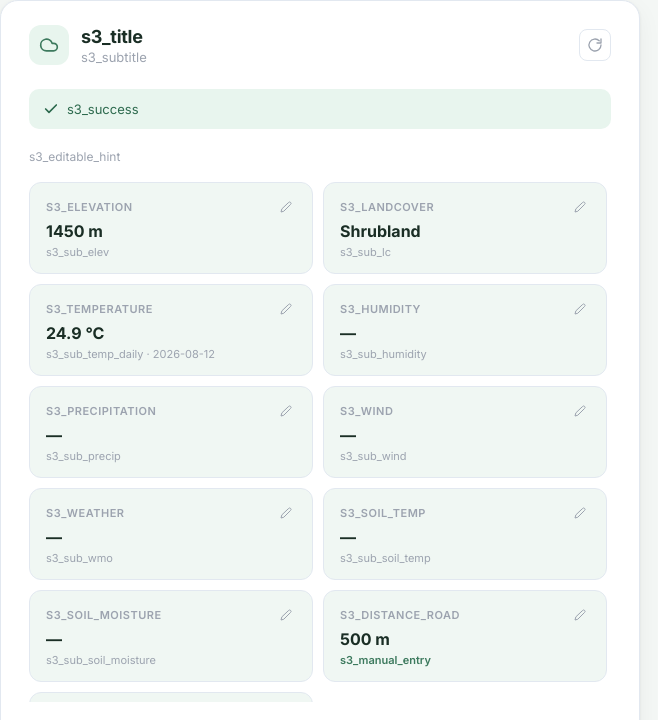
Scenario: Step3Environment auto-fetch › manual refetch preserves a manually-edited field instead of overwriting it with the new fetch result
Expected: the text "500 m" is shown, [340,629,390,649]
Click the button named "s3_refetch".
click(595, 45)  # box [579,29,611,61]
(page scrolled)
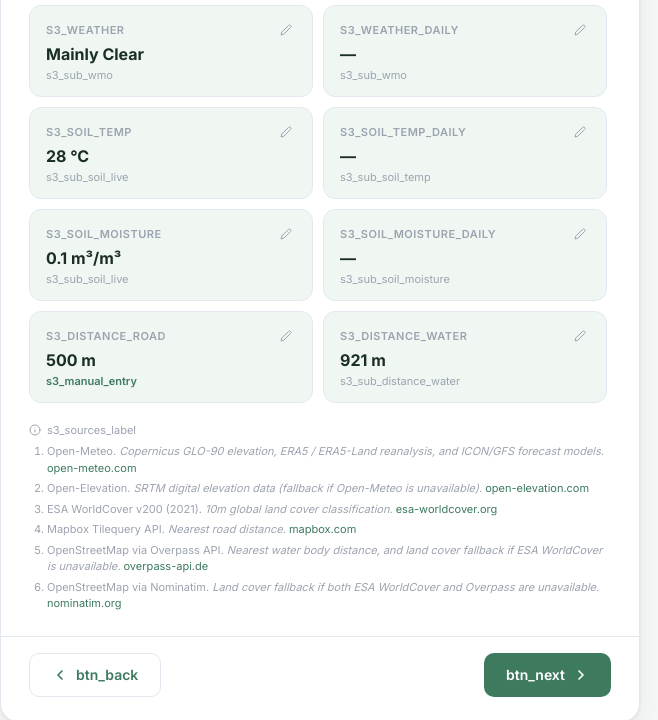
Now the text "500 m" is shown, box [46,350,96,370]
